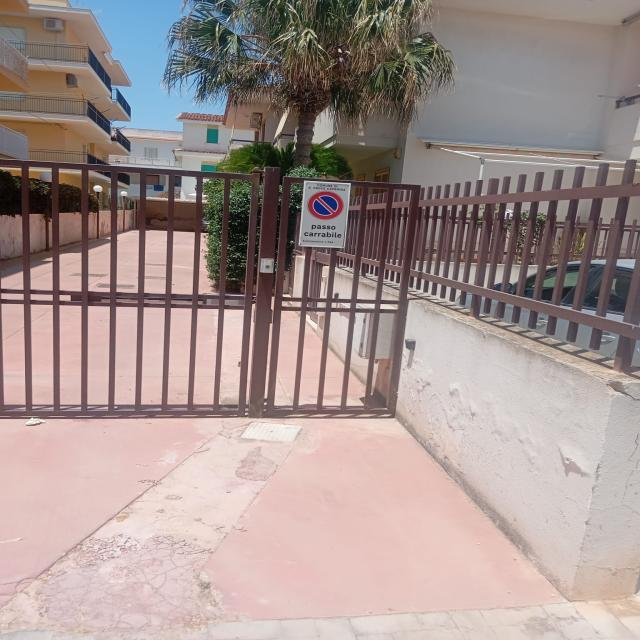forb_stopping: (307, 191, 344, 220)
